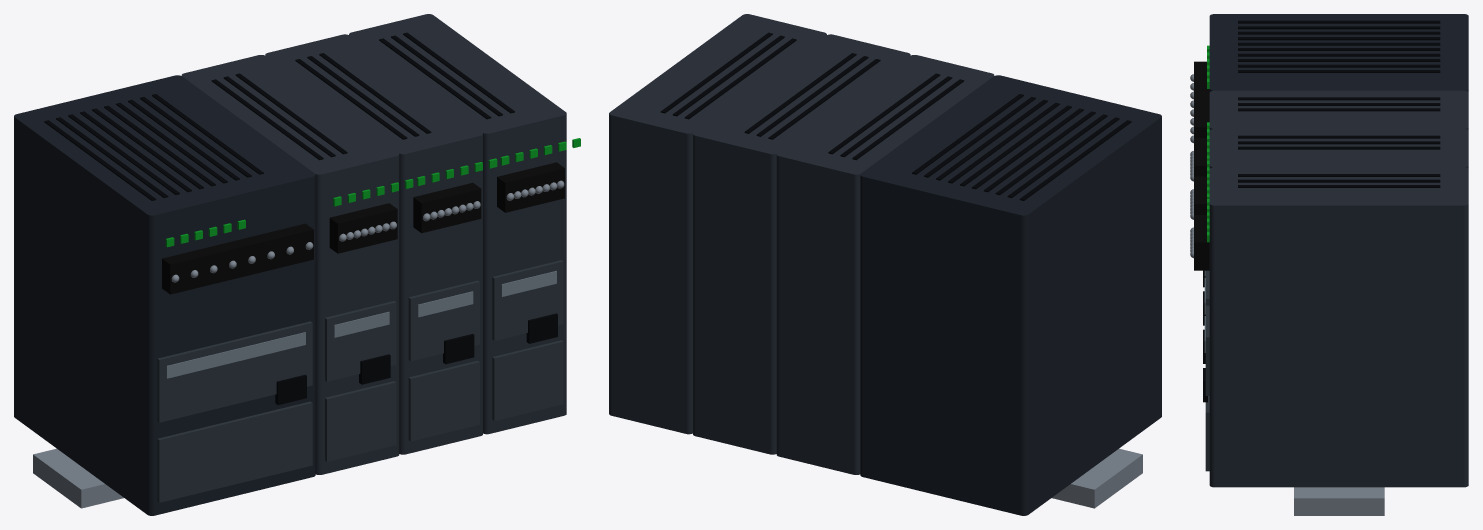
The model's file is plc.glb.
The picture shows the model from 3 angles, left to right: view 1: azimuth 30°, elevation 25°; view 2: azimuth 150°, elevation 25°; view 3: azimuth 270°, elevation 25°; orthographic projection. The views are drawn at different scales.
Visible parts, largest first — view 1: cpu, io_1, io_2, io_3, plc; view 2: cpu, io_1, io_2, io_3, plc; view 3: io_3, cpu, io_2, io_1, plc.
Boxes of the visible parts, <box> form: cpu: <box>14,75,315,515</box>; io_1: <box>181,55,413,474</box>; io_2: <box>265,34,497,454</box>; io_3: <box>349,14,580,434</box>; plc: <box>33,448,123,508</box>; cpu: <box>860,75,1161,515</box>; io_1: <box>776,55,994,474</box>; io_2: <box>693,34,910,454</box>; io_3: <box>609,14,826,434</box>; plc: <box>1052,448,1142,508</box>; io_3: <box>1190,167,1468,487</box>; cpu: <box>1190,14,1468,287</box>; io_2: <box>1190,129,1468,363</box>; io_1: <box>1190,90,1468,325</box>; plc: <box>1294,487,1384,515</box>.
Bounding box in the file's own units: 0.195 × 0.128 × 0.1075.
